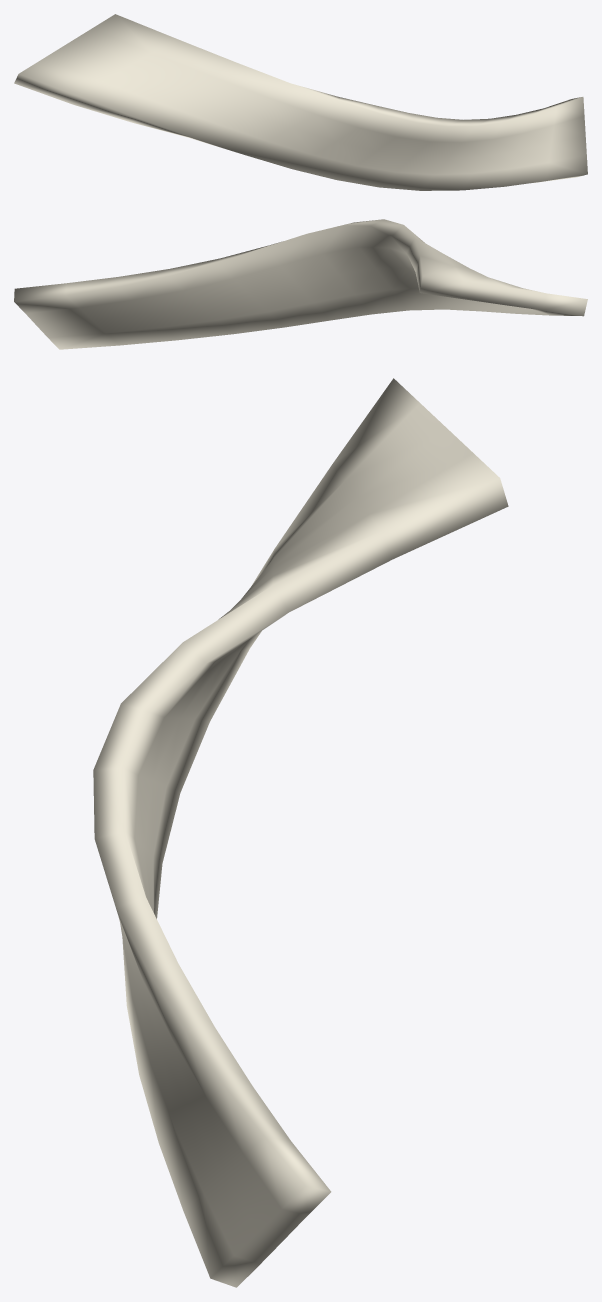
The picture shows the model from 3 angles, top to bottom: view 1: azimuth 30°, elevation 25°; view 2: azimuth 150°, elevation 25°; view 3: azimuth 270°, elevation 25°; orthographic projection. The views are drawn at different scales.
Visible parts, largest first — view 1: ZA_2d36af10b0ab9da6; view 2: ZA_2d36af10b0ab9da6; view 3: ZA_2d36af10b0ab9da6.
Part boxes in pixels (box(x1,y1,x2,y2)): ZA_2d36af10b0ab9da6: box(14, 14, 587, 190); ZA_2d36af10b0ab9da6: box(14, 219, 587, 349); ZA_2d36af10b0ab9da6: box(93, 378, 508, 1287).
Bounding box in the file's own units: 0.0197 × 0.00733 × 0.00652.
